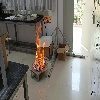fire: (34, 23, 45, 71)
